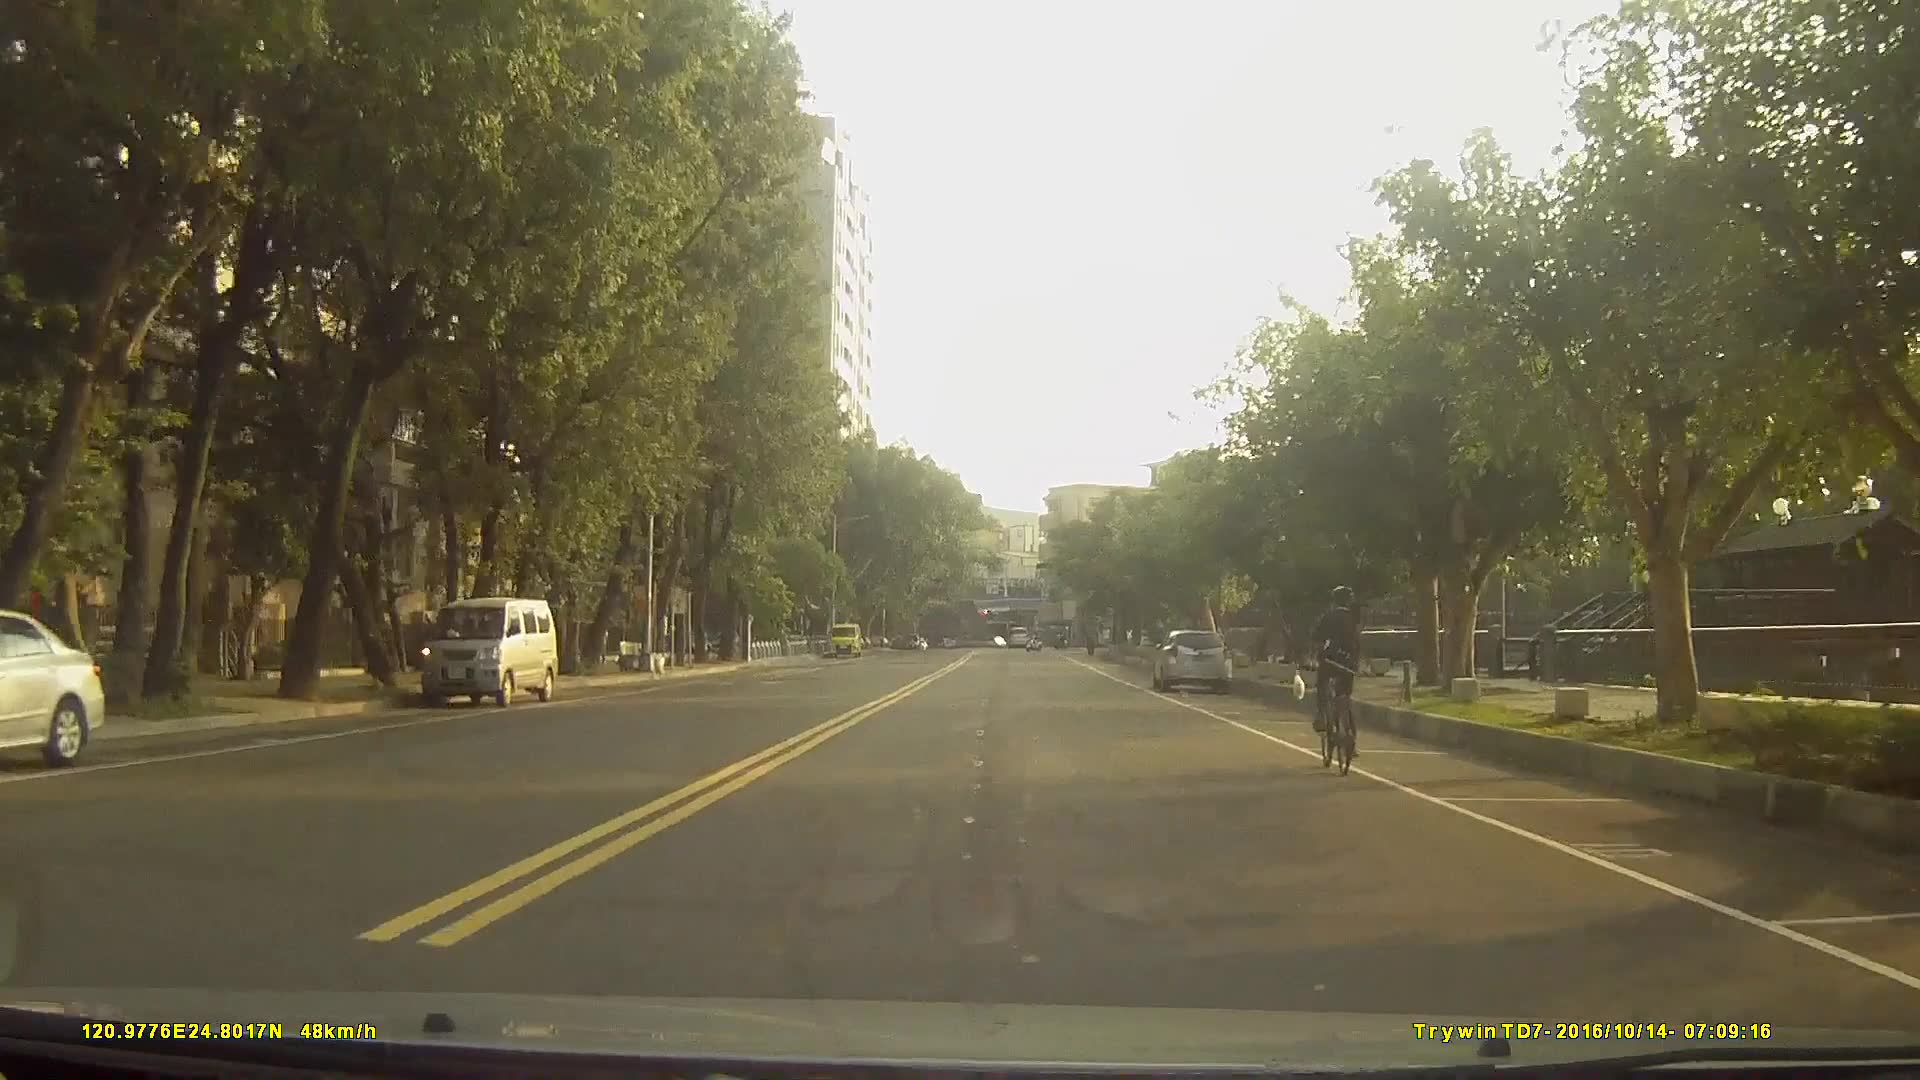rider: (1310, 587, 1361, 774)
vehicle: (0, 606, 103, 765), (419, 593, 558, 707), (1153, 627, 1234, 694), (1005, 622, 1029, 648)
